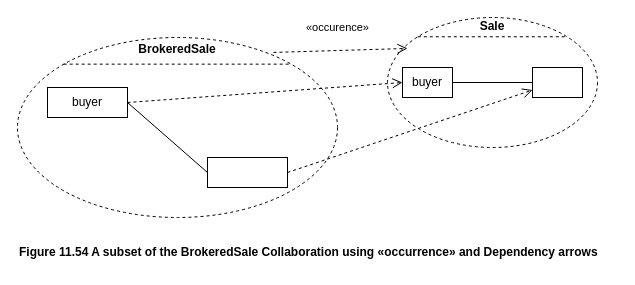
Image size: 635x285. Some labels were removed from this diagram. The box of each missing label's shape, as (x1, y1, x2, y2) in pixels:
producer: (206, 156, 288, 188)
seller: (532, 66, 582, 98)
